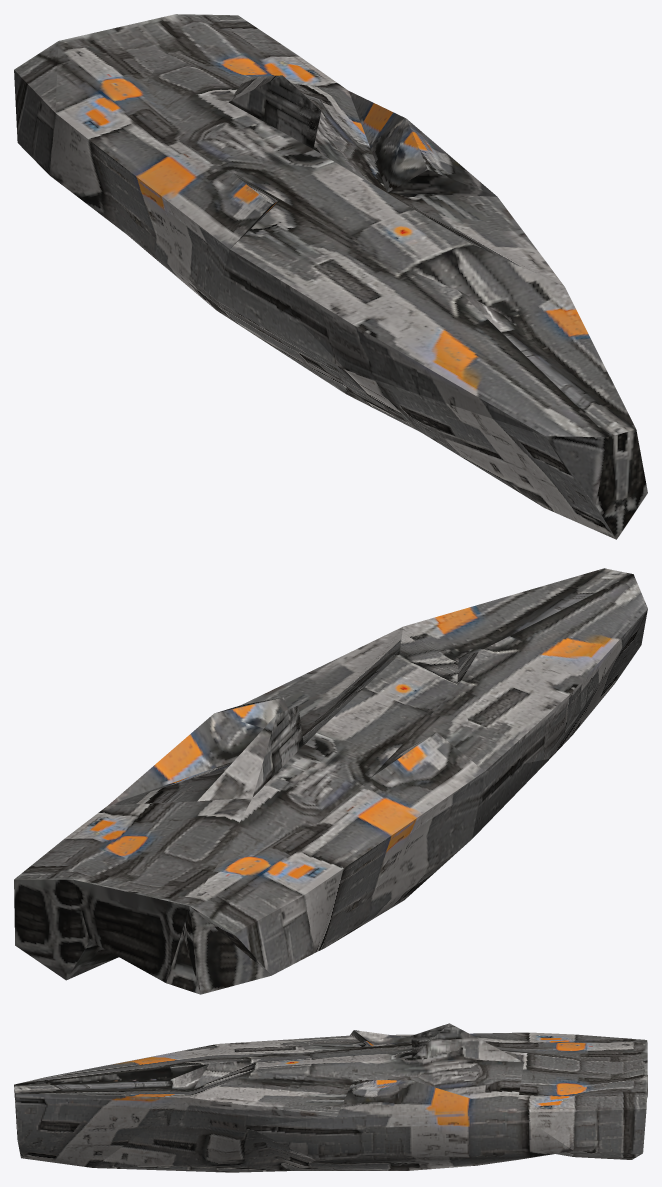
Rendered from hard-150.glb.
The picture shows the model from 3 angles, top to bottom: view 1: azimuth 30°, elevation 25°; view 2: azimuth 150°, elevation 25°; view 3: azimuth 270°, elevation 25°; orthographic projection. The views are drawn at different scales.
Parts seen in each view (by area): view 1: Low; view 2: Low; view 3: Low.
Boxes of the visible parts, left/top/right/bottom form: Low: left=14, top=14, right=647, bottom=539; Low: left=14, top=568, right=647, bottom=994; Low: left=14, top=1023, right=647, bottom=1172.
Bounding box in the file's own units: 0.2937 × 0.2393 × 0.9536.
1 material, 1 textured.
